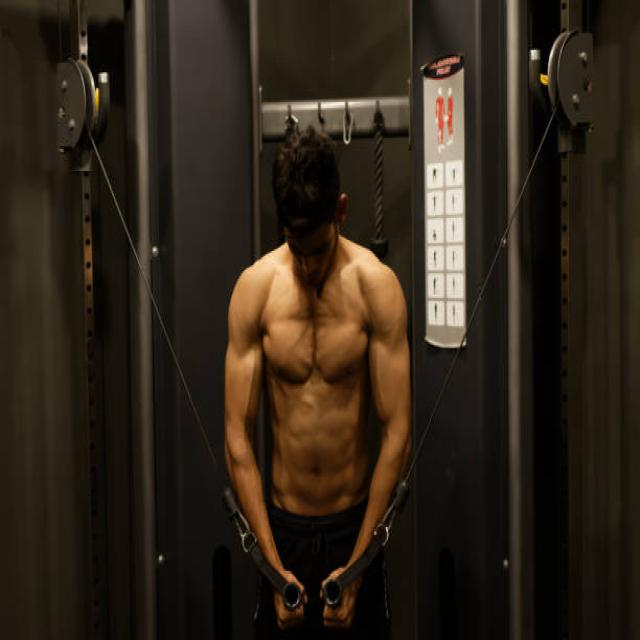no_helmet: (262, 187, 358, 286)
